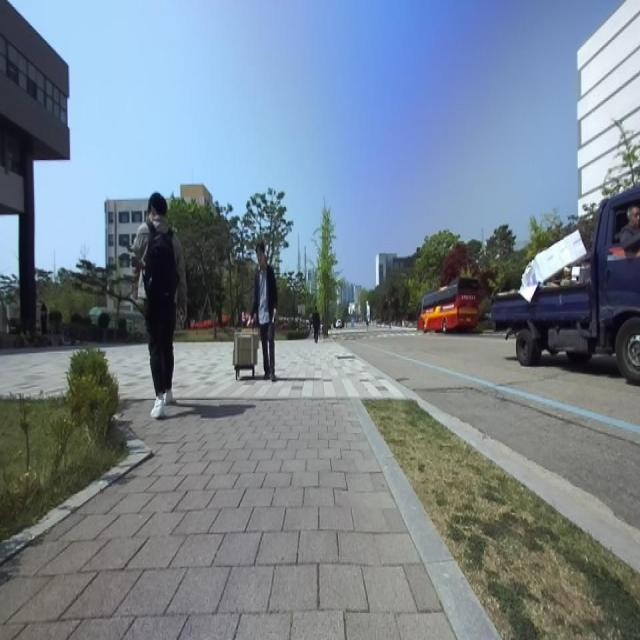sidewalk: (0, 340, 498, 639)
